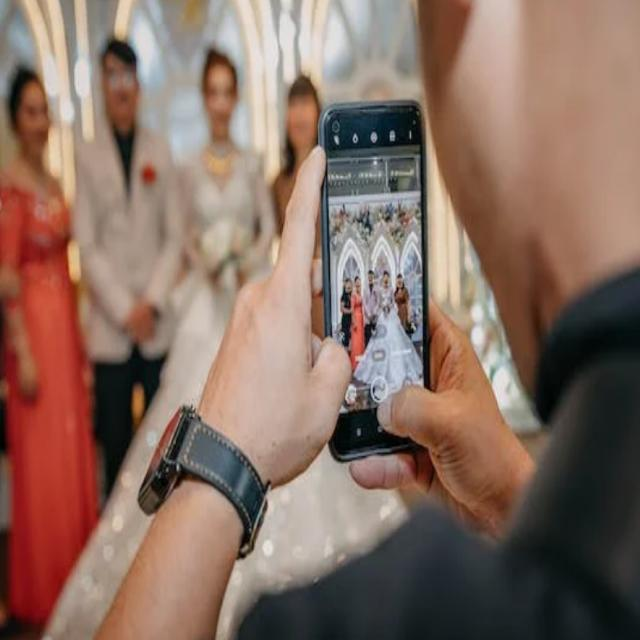Watch: (134, 404, 273, 554)
